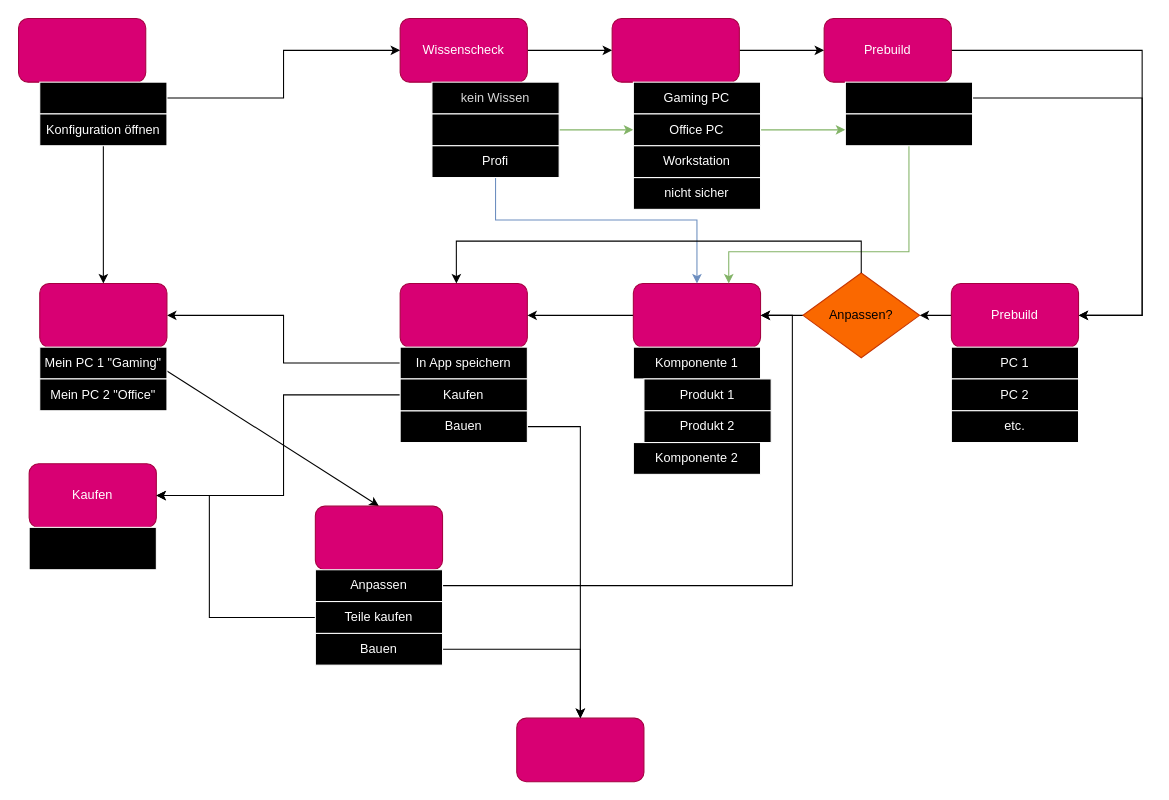
Image size: 1169x800. Some labels were removed from this diagram. The shapes that lost their labels are listed below. From the top down, each one's centre as x and y in pixels, then its label:
point (81, 49): Startbildschirm
point (675, 49): Vorauswahl
point (103, 97): PC Konfigurieren
point (908, 97): Ja
point (495, 129): bischen
point (908, 129): Nein
point (103, 314): Konfigrationen
point (463, 314): Speichern?
point (696, 314): Anpassungen (erklärungen dabei)
point (92, 548): Weiterleitung zu Online-Shops
point (378, 537): Mein PC 1
point (580, 749): Bauanleitung
